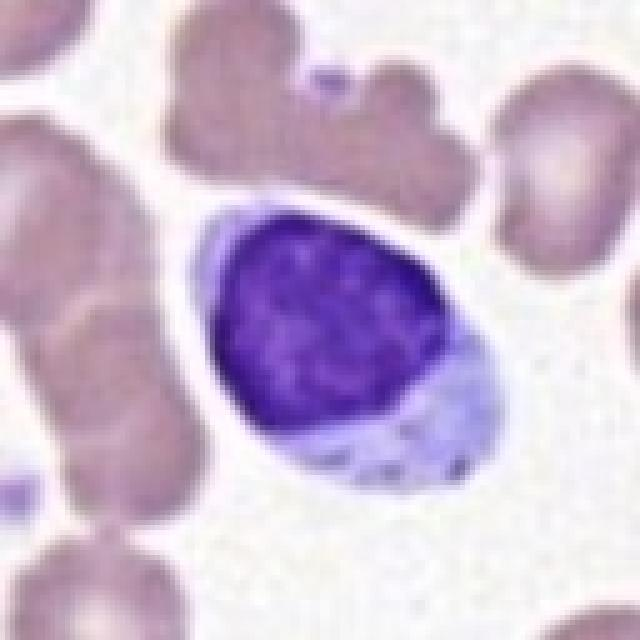lympho: (180, 188, 516, 503)
